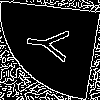Y: (24, 25, 80, 64)
